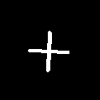single_crochet: (28, 31, 68, 71)
